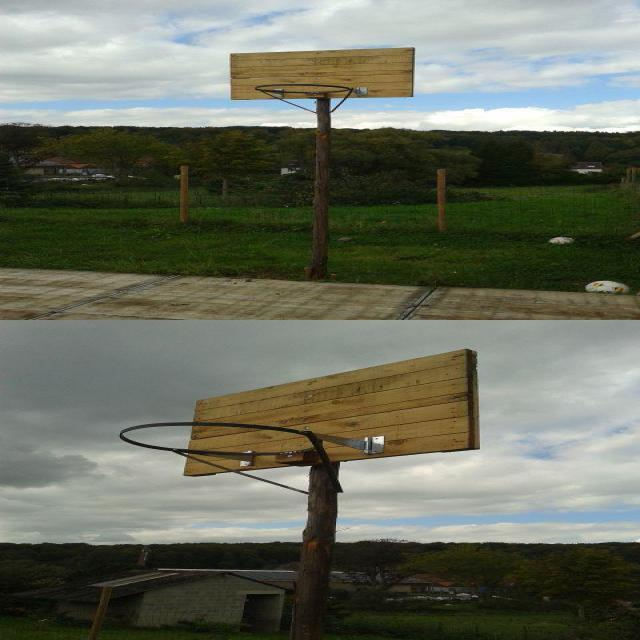Basketball: (586, 280, 630, 294), (548, 237, 574, 244)
hoop: (119, 422, 318, 456), (254, 84, 350, 94)
